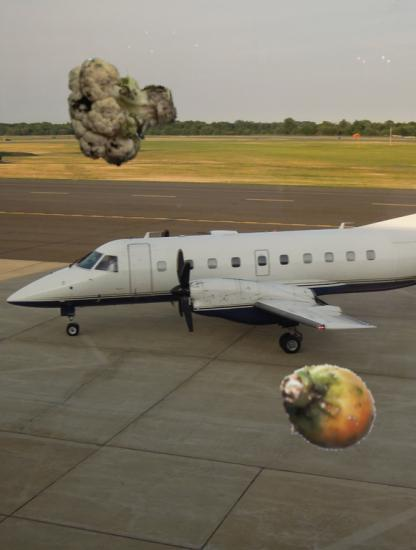Cactus: (282, 359, 377, 454)
Cauliflower: (66, 53, 180, 167)
